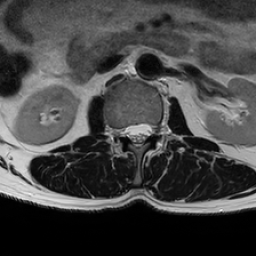CCS_normal: (133, 115, 142, 155)
LFS_normal: (152, 113, 160, 141)
LLS_normal: (142, 114, 152, 147)
RFS_normal: (115, 116, 123, 146)
RLS_normal: (123, 115, 133, 147)
